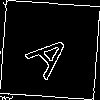A: (25, 25, 82, 81)
